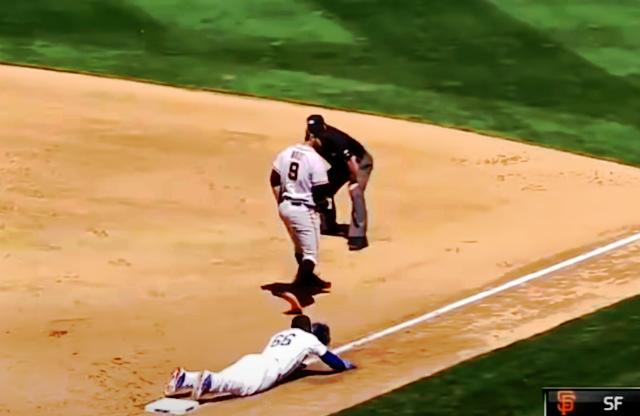jatuh: (160, 308, 358, 406)
